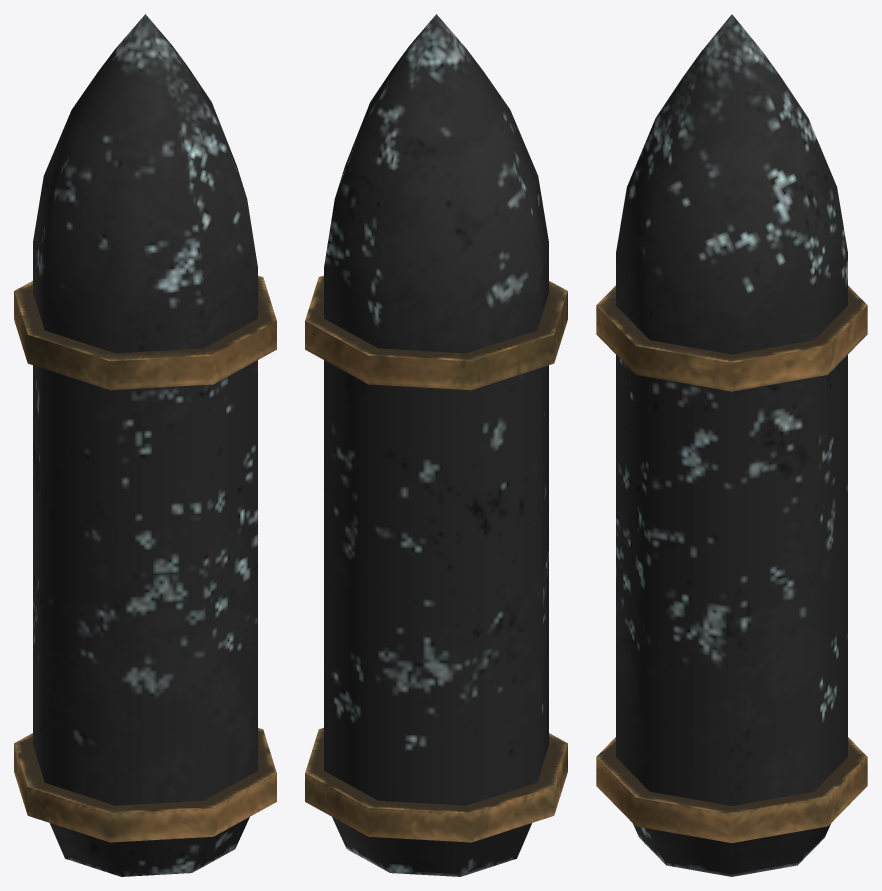
The model's file is Medium_Bullet.fbx.
3 renders of one model, left to right at view 1: azimuth 30°, elevation 25°; view 2: azimuth 150°, elevation 25°; view 3: azimuth 270°, elevation 25°, orthographic.
Visible parts, largest first — view 1: Medium_Bullet; view 2: Medium_Bullet; view 3: Medium_Bullet.
Boxes of the visible parts, box(x1,y1,x2,y2) form: Medium_Bullet: box(14, 14, 276, 876); Medium_Bullet: box(305, 14, 567, 876); Medium_Bullet: box(596, 14, 867, 876).
Bounding box in the file's own units: 26.47 × 88.59 × 26.47.
Materials: 1 (1 with a texture image).
